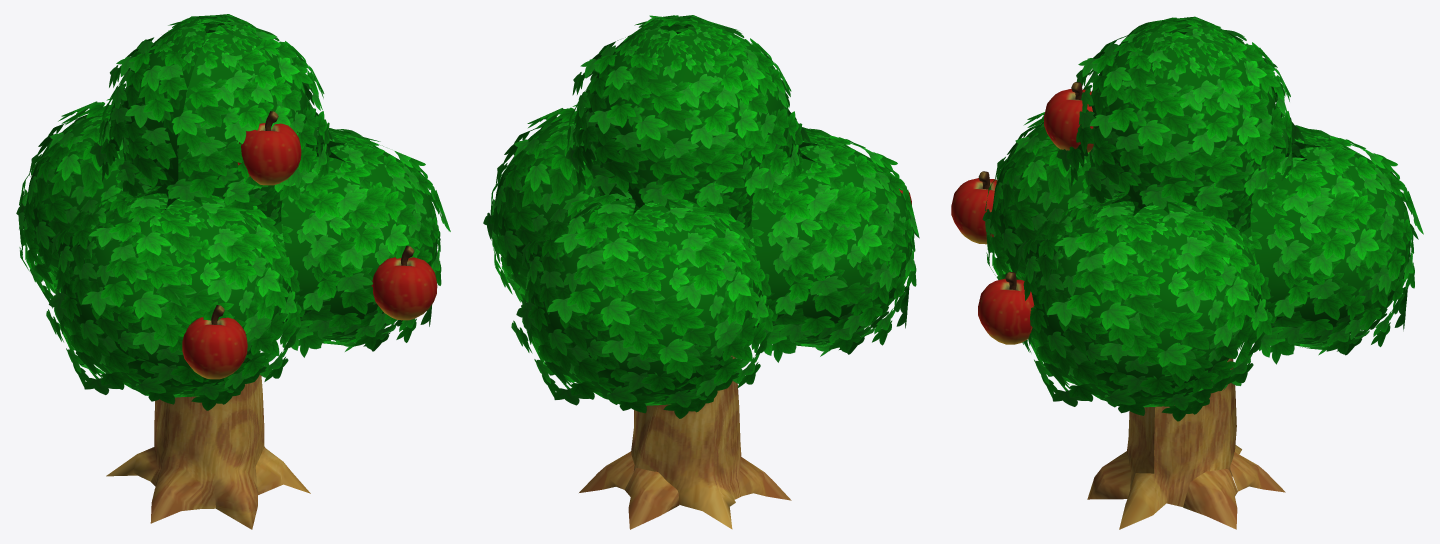
The model's file is tree.glb.
3 renders of one model, left to right at view 1: azimuth 30°, elevation 25°; view 2: azimuth 150°, elevation 25°; view 3: azimuth 270°, elevation 25°, orthographic.
Visible parts, largest first — view 1: Leaf186_1__ac_bigtree_leafA.001; view 2: Leaf186_1__ac_bigtree_leafA.001; view 3: Leaf186_1__ac_bigtree_leafA.001.
Part boxes in pixels (x1,y1,x2,y2): Leaf186_1__ac_bigtree_leafA.001: [16, 14, 450, 529]; Leaf186_1__ac_bigtree_leafA.001: [483, 15, 919, 529]; Leaf186_1__ac_bigtree_leafA.001: [951, 16, 1423, 529].
Size of the model in its own units: 394 by 457 by 411.
Materials: 6 (6 with a texture image).
